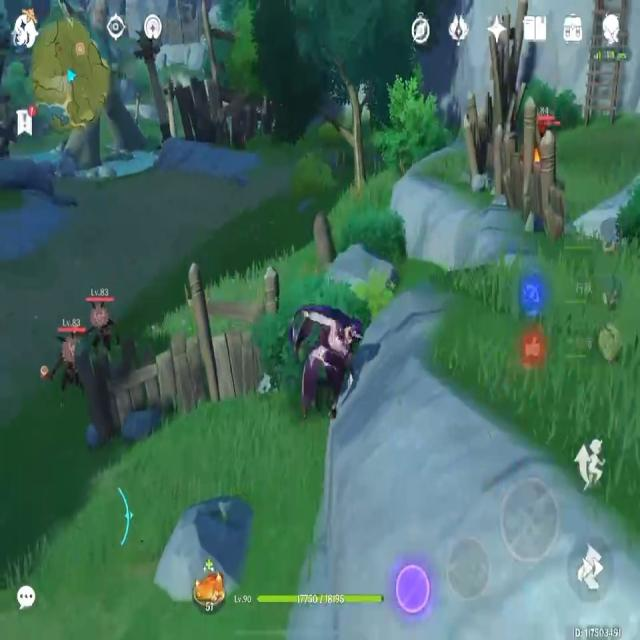genshin-hilichurls: (43, 335, 78, 397), (86, 305, 120, 344)
